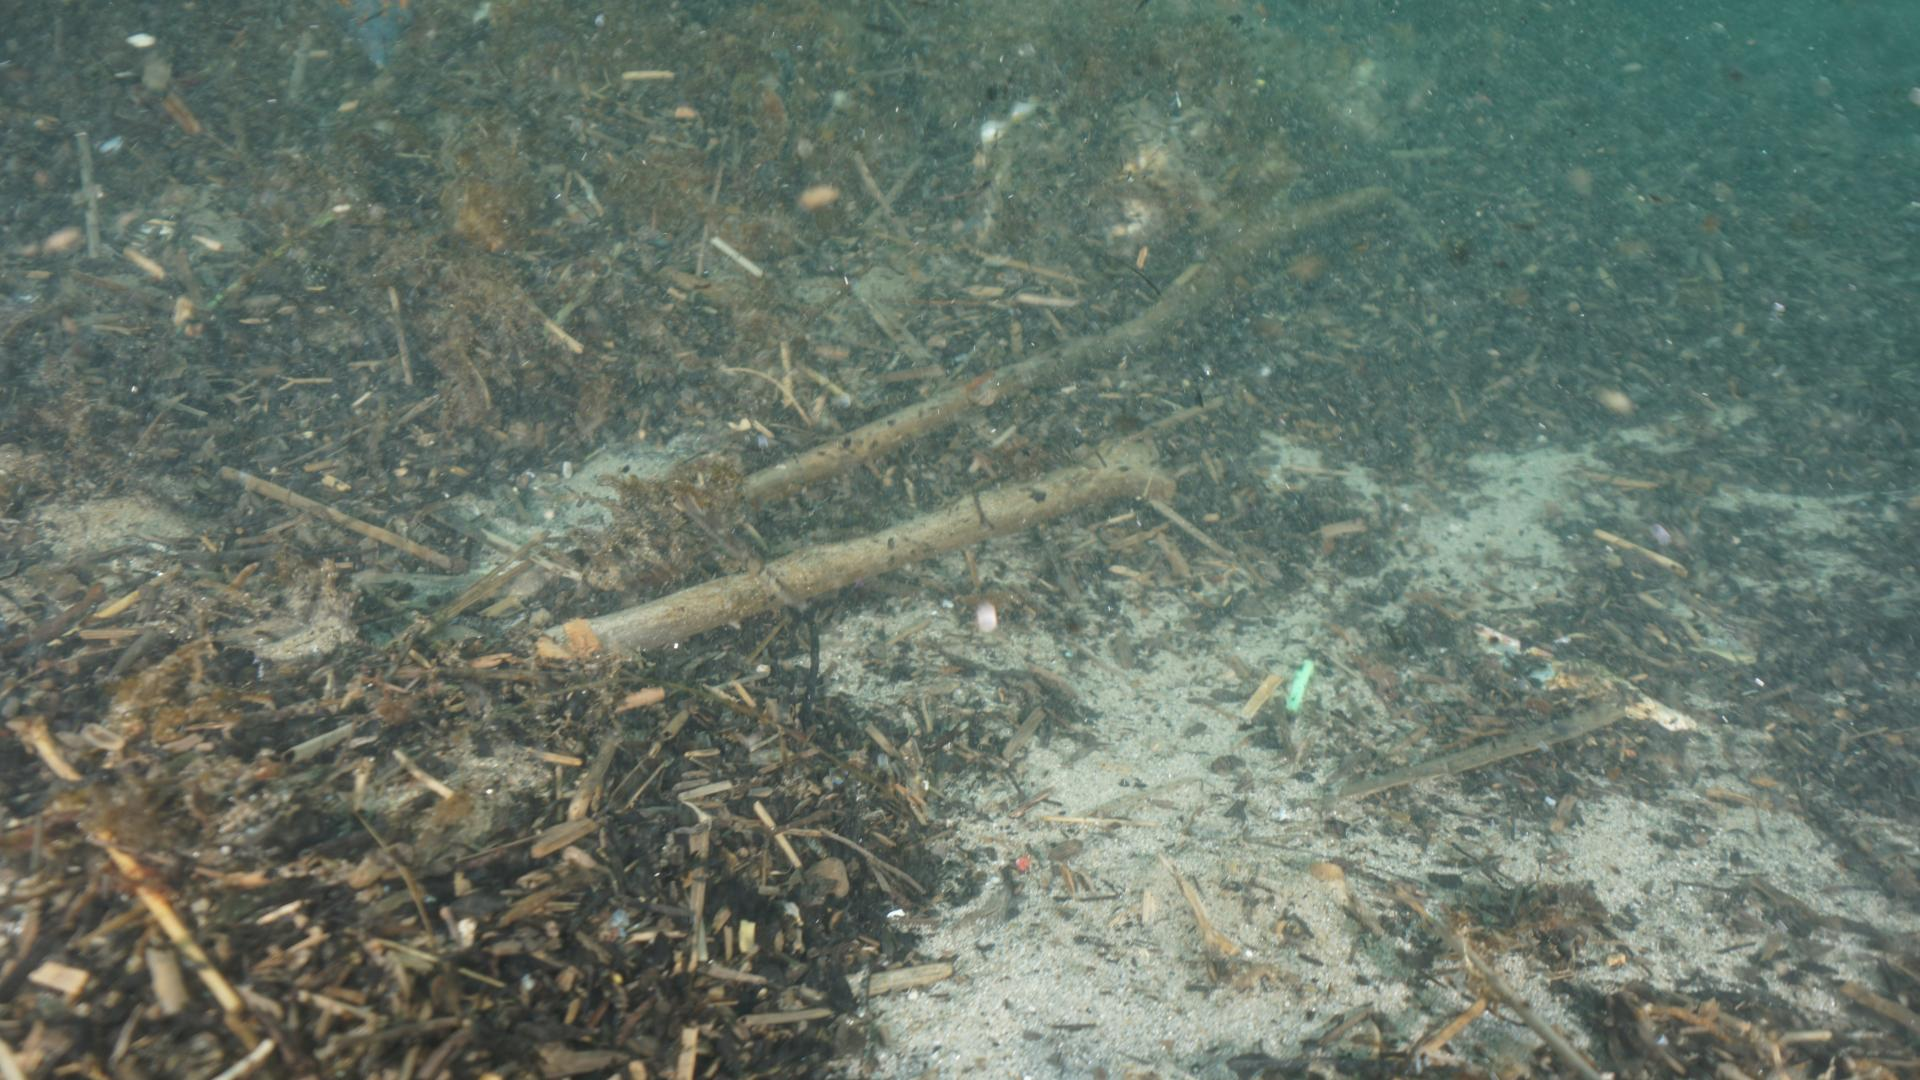wood: (742, 185, 1393, 502), (549, 440, 1171, 676)
